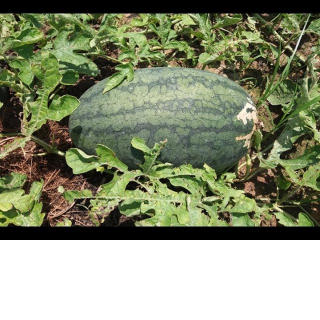dua_hau: (68, 68, 256, 180)
